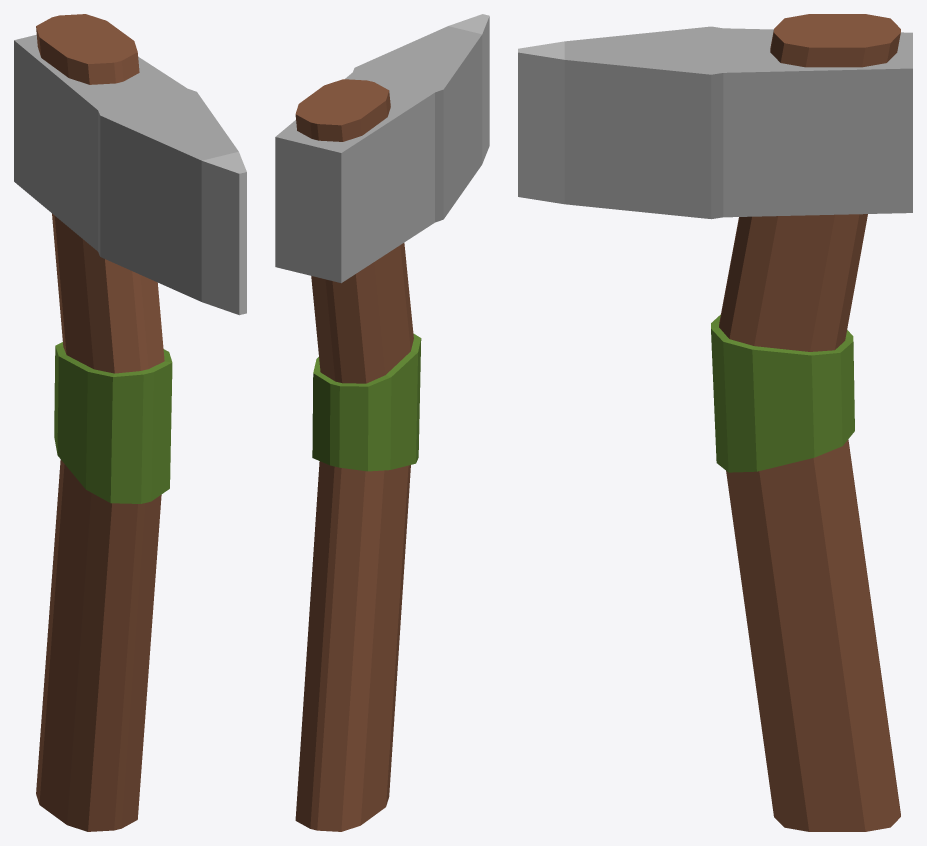
Rendered from ThrowingAxe.fbx.
3 views of the same model, side by side, from view 1: azimuth 30°, elevation 25°; view 2: azimuth 150°, elevation 25°; view 3: azimuth 270°, elevation 25° (orthographic). The views are drawn at different scales.
Visible parts, largest first — view 1: Cube; view 2: Cube; view 3: Cube.
Boxes of the visible parts, <box> form: Cube: <box>14,14,246,831</box>; Cube: <box>275,14,489,831</box>; Cube: <box>518,14,912,831</box>.
Bounding box in the file's own units: 67.06 × 508 × 232.
